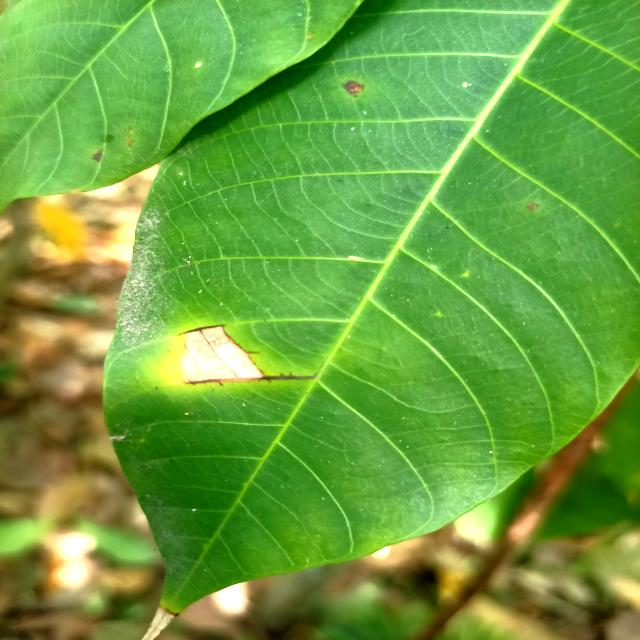Corynespora: (184, 371, 316, 386), (179, 324, 225, 335)
Leaf-Blight: (183, 328, 263, 382)
